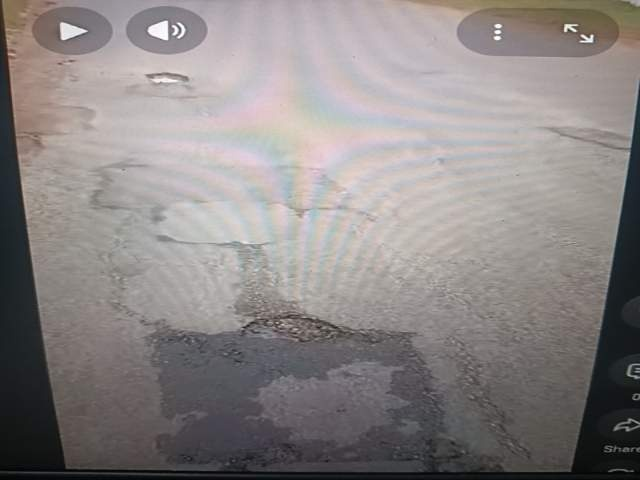pothole: (536, 404, 640, 480)
